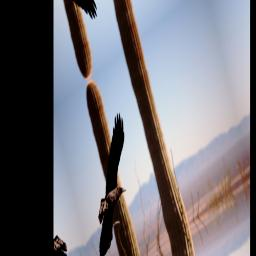Crow: (72, 108, 149, 256)
